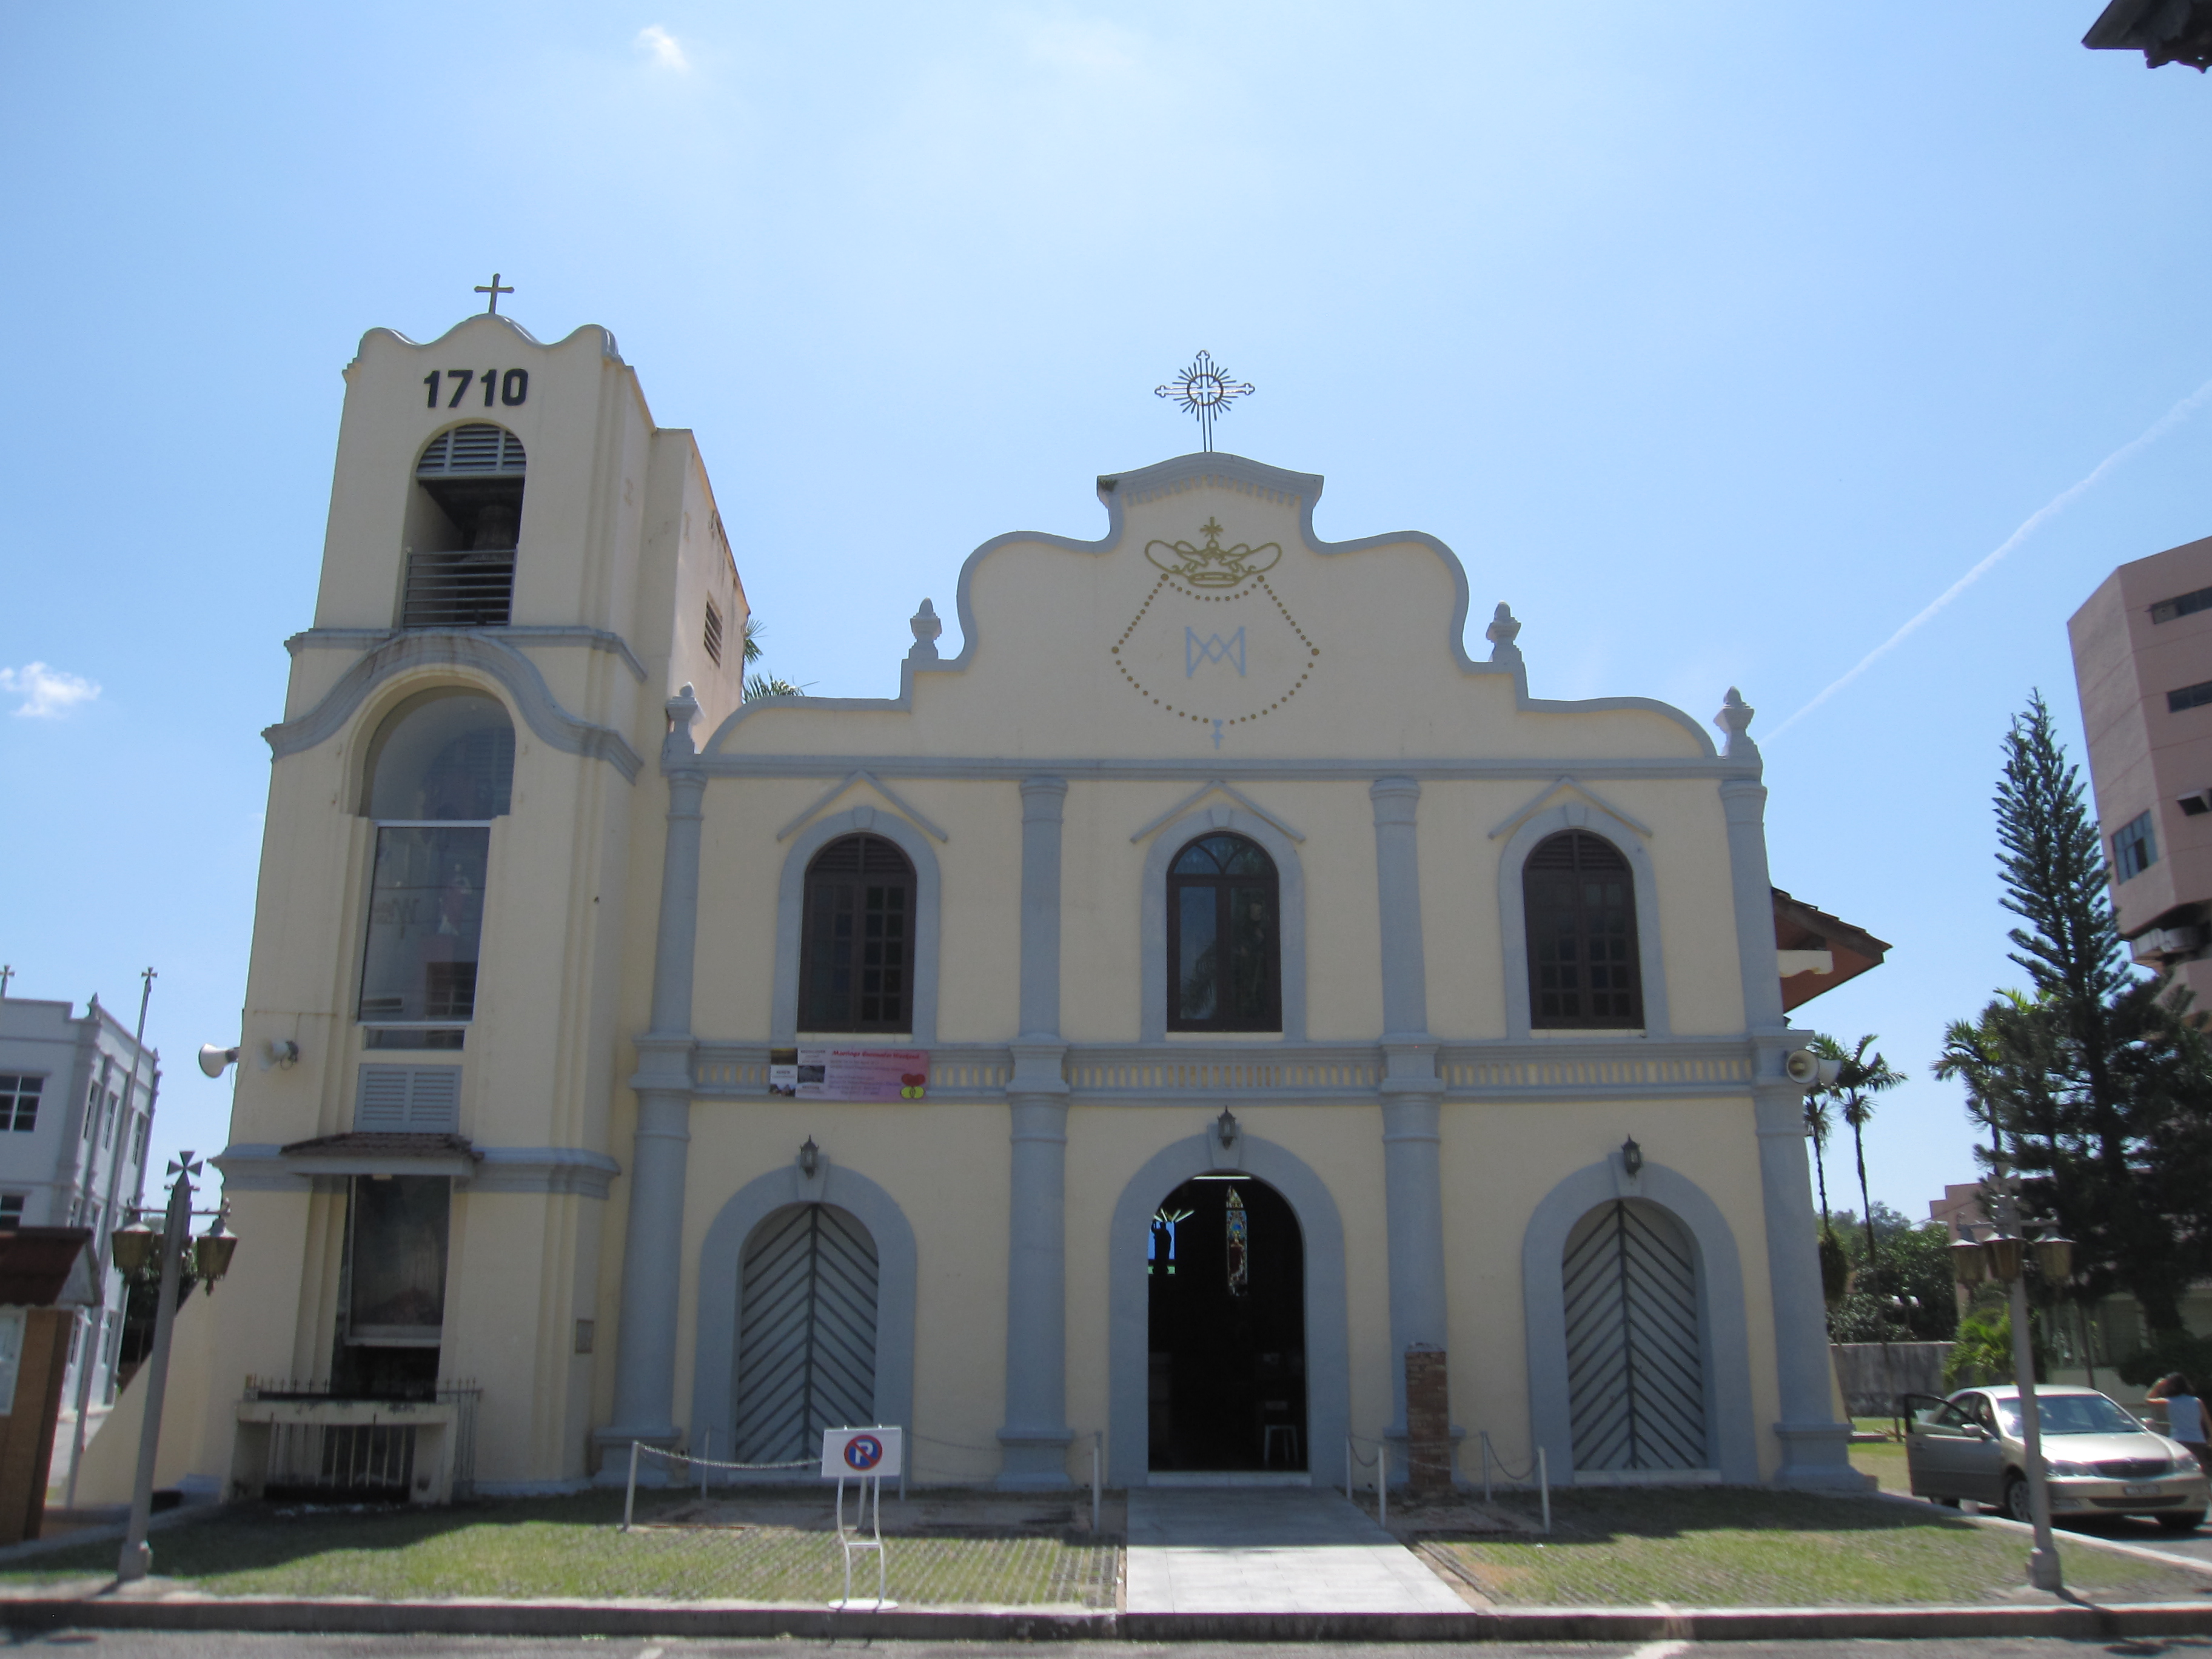Church: (214, 216, 1844, 1504)
